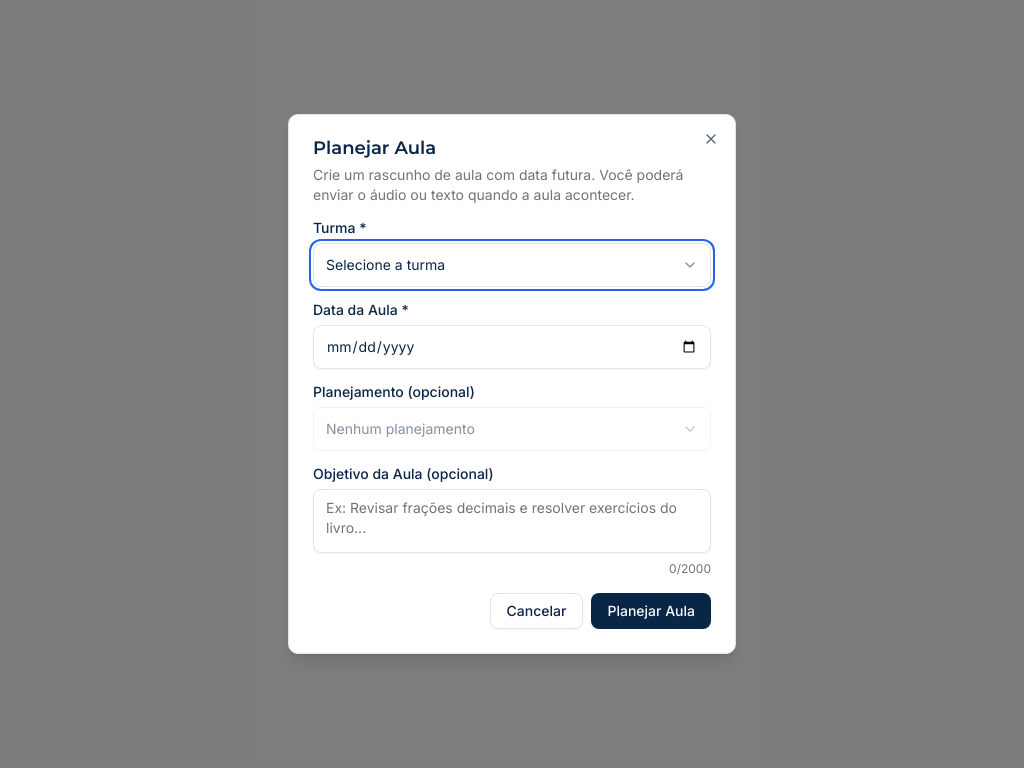
Test case: RascunhoAulaDialog › deve atualizar contador ao digitar na descrição
Replace the text in the text box with placeholder "Revisar frações decimais" with "Objetivo de teste" at (512, 521), box [313,489,711,553]
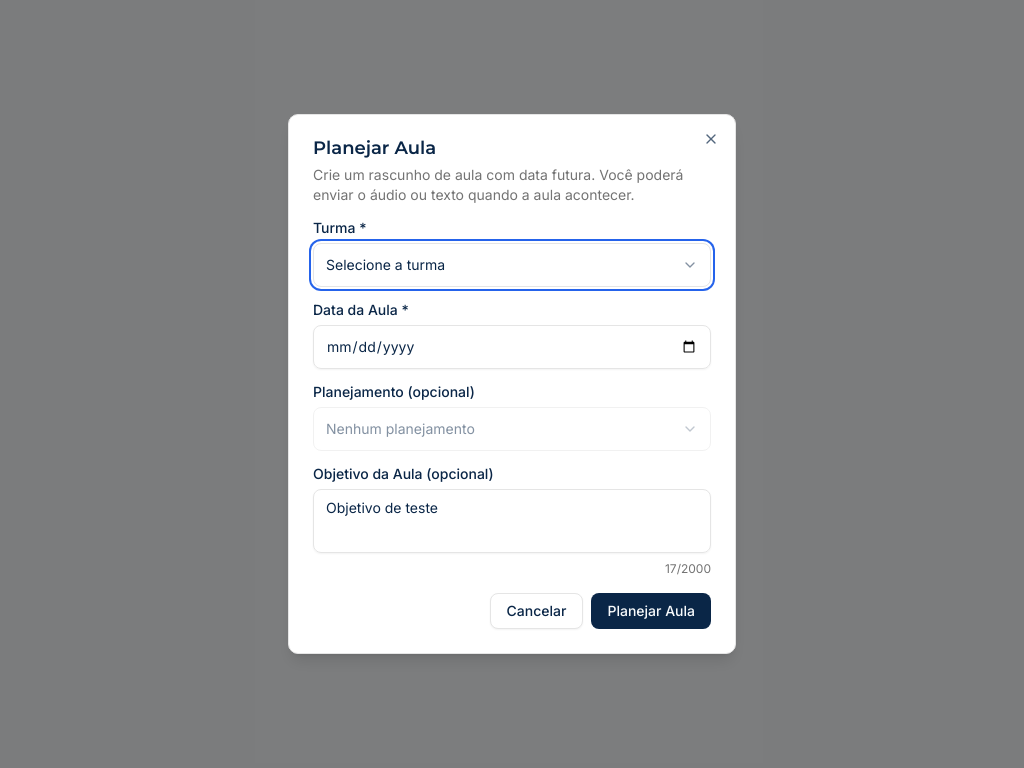
Check: the text "17/2000" is shown, box [665,561,711,576]
